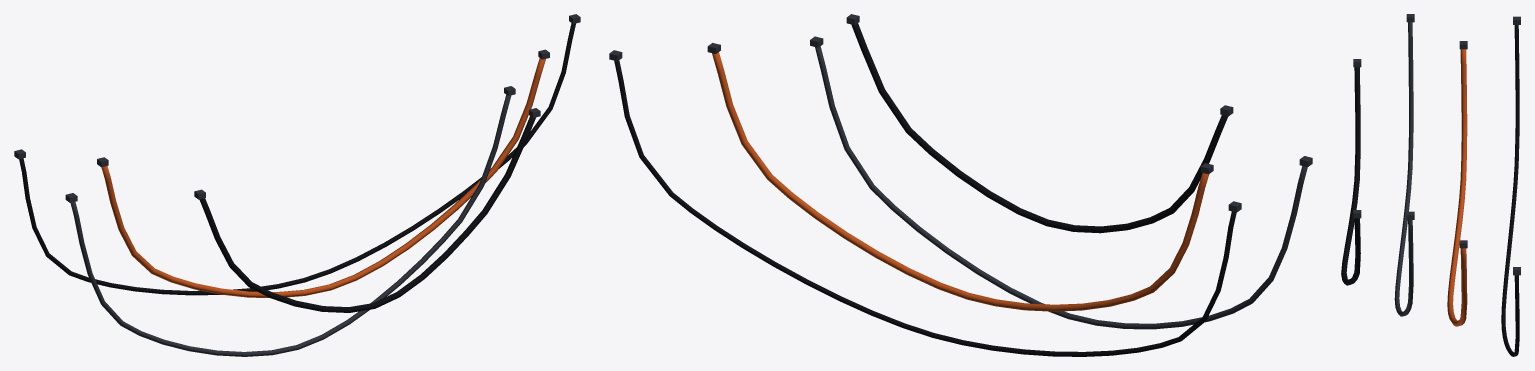
Rendered from Arch_Ceiling_HangingCables.glb.
The picture shows the model from 3 angles, left to right: view 1: azimuth 30°, elevation 25°; view 2: azimuth 150°, elevation 25°; view 3: azimuth 270°, elevation 25°; orthographic projection. The views are drawn at different scales.
Visible parts, largest first — view 1: Arch_Ceiling_HangingCables; view 2: Arch_Ceiling_HangingCables; view 3: Arch_Ceiling_HangingCables.
Boxes of the visible parts, bbox=[...] form: Arch_Ceiling_HangingCables: bbox=[14, 14, 580, 356]; Arch_Ceiling_HangingCables: bbox=[609, 14, 1312, 356]; Arch_Ceiling_HangingCables: bbox=[1341, 14, 1520, 356].
Size of the model in its own units: 2.28 by 0.7768 by 0.6763.
